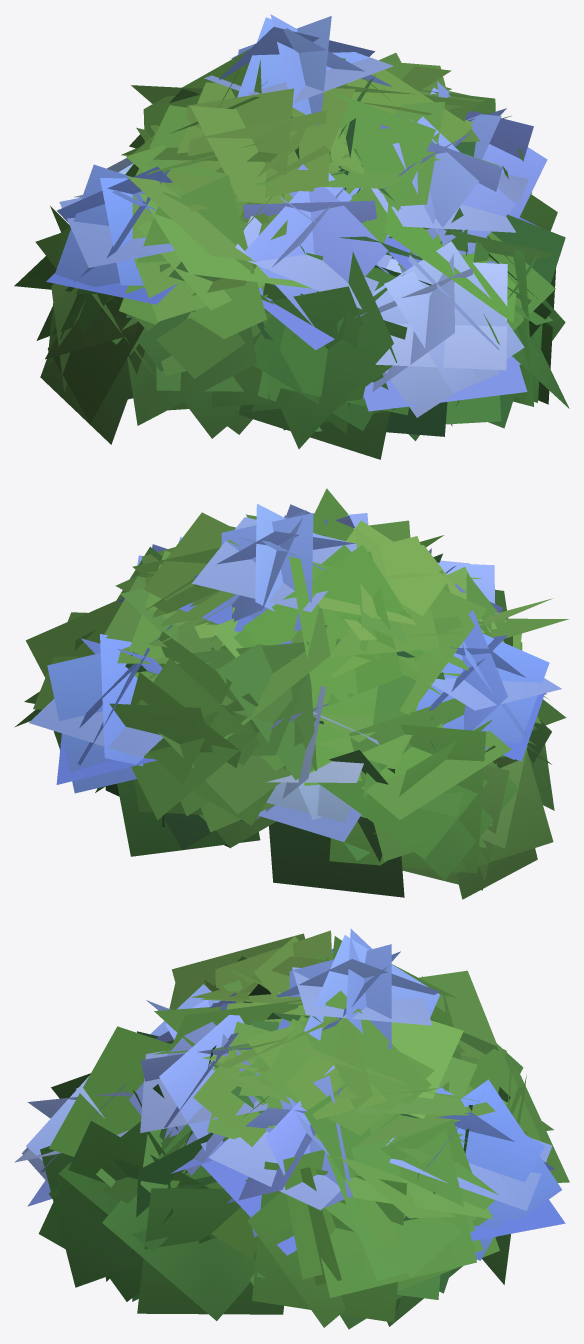
Rendered from tree-village-bush-hydrangea-v0.glb.
3 views of the same model, one above another, from view 1: azimuth 30°, elevation 25°; view 2: azimuth 150°, elevation 25°; view 3: azimuth 270°, elevation 25° (orthographic). The views are drawn at different scales.
Parts seen in each view (by area): view 1: cards_round, cards_sakura; view 2: cards_round, cards_sakura; view 3: cards_round, cards_sakura.
Boxes of the visible parts, left/top/right/bottom form: cards_round: left=14, top=49, right=569, bottom=459; cards_sakura: left=46, top=14, right=547, bottom=417; cards_round: left=14, top=488, right=568, bottom=899; cards_sakura: left=29, top=503, right=561, bottom=841; cards_round: left=38, top=930, right=569, bottom=1329; cards_sakura: left=14, top=928, right=565, bottom=1260.
Size of the model in its own units: 2.04 by 1.37 by 2.12.
